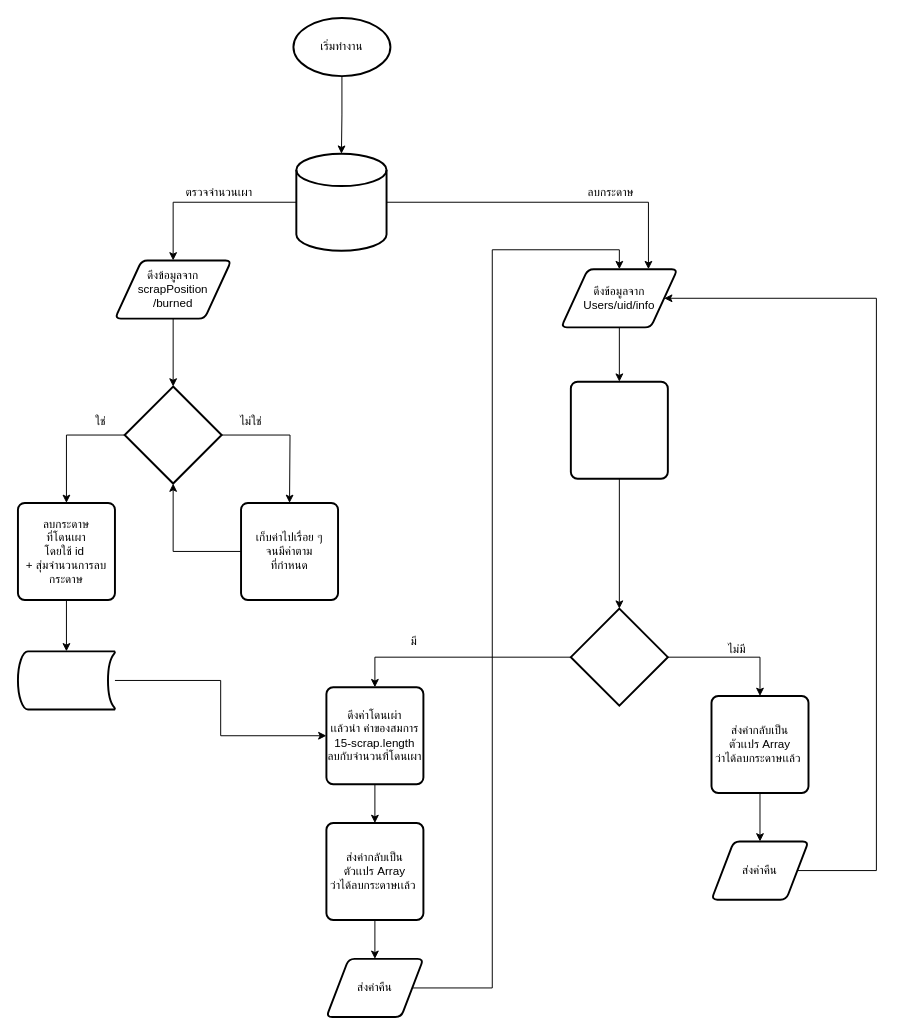
The diagram is 901 pixels wide and 1034 high, and some of its shapes have lost their labels. The shapes that lost their labels are listed below. From the top down, each one's box as (x1, y1, x2, y2) in pixels, then its label:
(295, 152, 387, 251): ข้อมูลใน Cloud Firestore
(123, 385, 222, 484): ถ้ามีค่า >= 3
(569, 380, 668, 479): เช็คกระดาษโดยใช้ 15-scrap.length
(569, 607, 668, 706): ถ้ามีกระดาษ ที่โดนเผาด้วย
(16, 650, 115, 710): เก็บค่าว่าต้องลบกระดาษ
